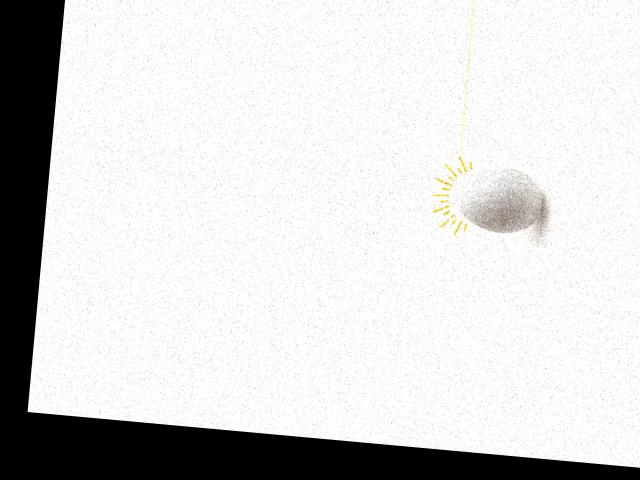egg: (453, 162, 544, 235)
